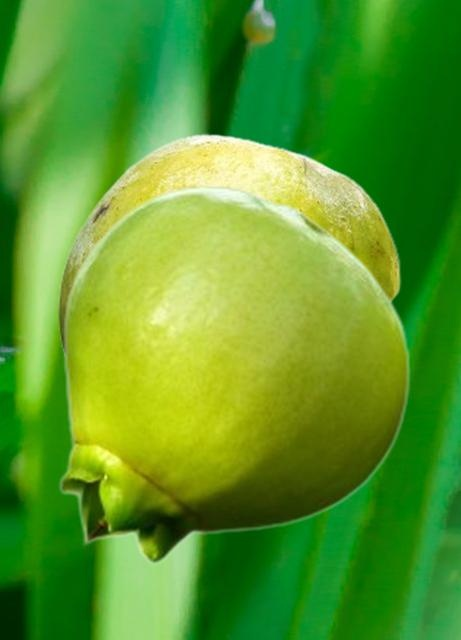guava: (58, 185, 410, 564), (57, 133, 400, 358)
